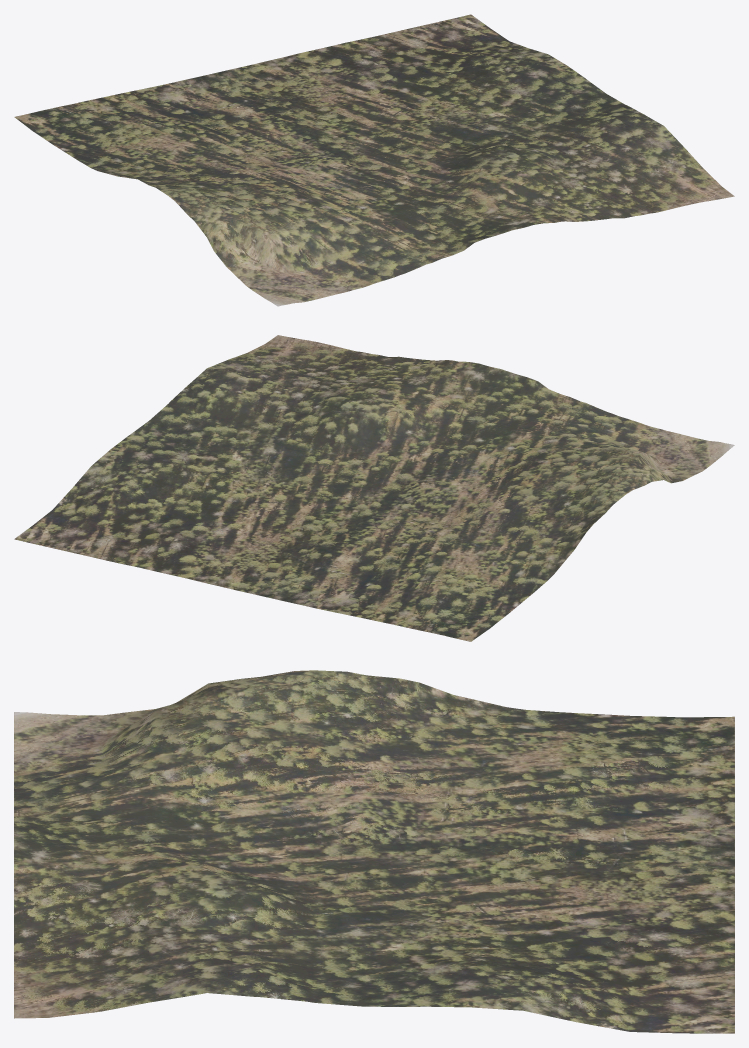
File: CM_Terrain_24493326_6815288.fbx
3 views of the same model, one above another, from view 1: azimuth 30°, elevation 25°; view 2: azimuth 150°, elevation 25°; view 3: azimuth 270°, elevation 25° (orthographic). The views are drawn at different scales.
Visible parts, largest first — view 1: CM_Terrain_24493326_6815288_LOD0; view 2: CM_Terrain_24493326_6815288_LOD0; view 3: CM_Terrain_24493326_6815288_LOD0.
Boxes of the visible parts, left/top/right/bottom form: CM_Terrain_24493326_6815288_LOD0: left=14, top=14, right=734, bottom=306; CM_Terrain_24493326_6815288_LOD0: left=14, top=335, right=734, bottom=641; CM_Terrain_24493326_6815288_LOD0: left=14, top=670, right=734, bottom=1033.
Size of what is drawn, in the model's own units: 205 by 18.76 by 205.
